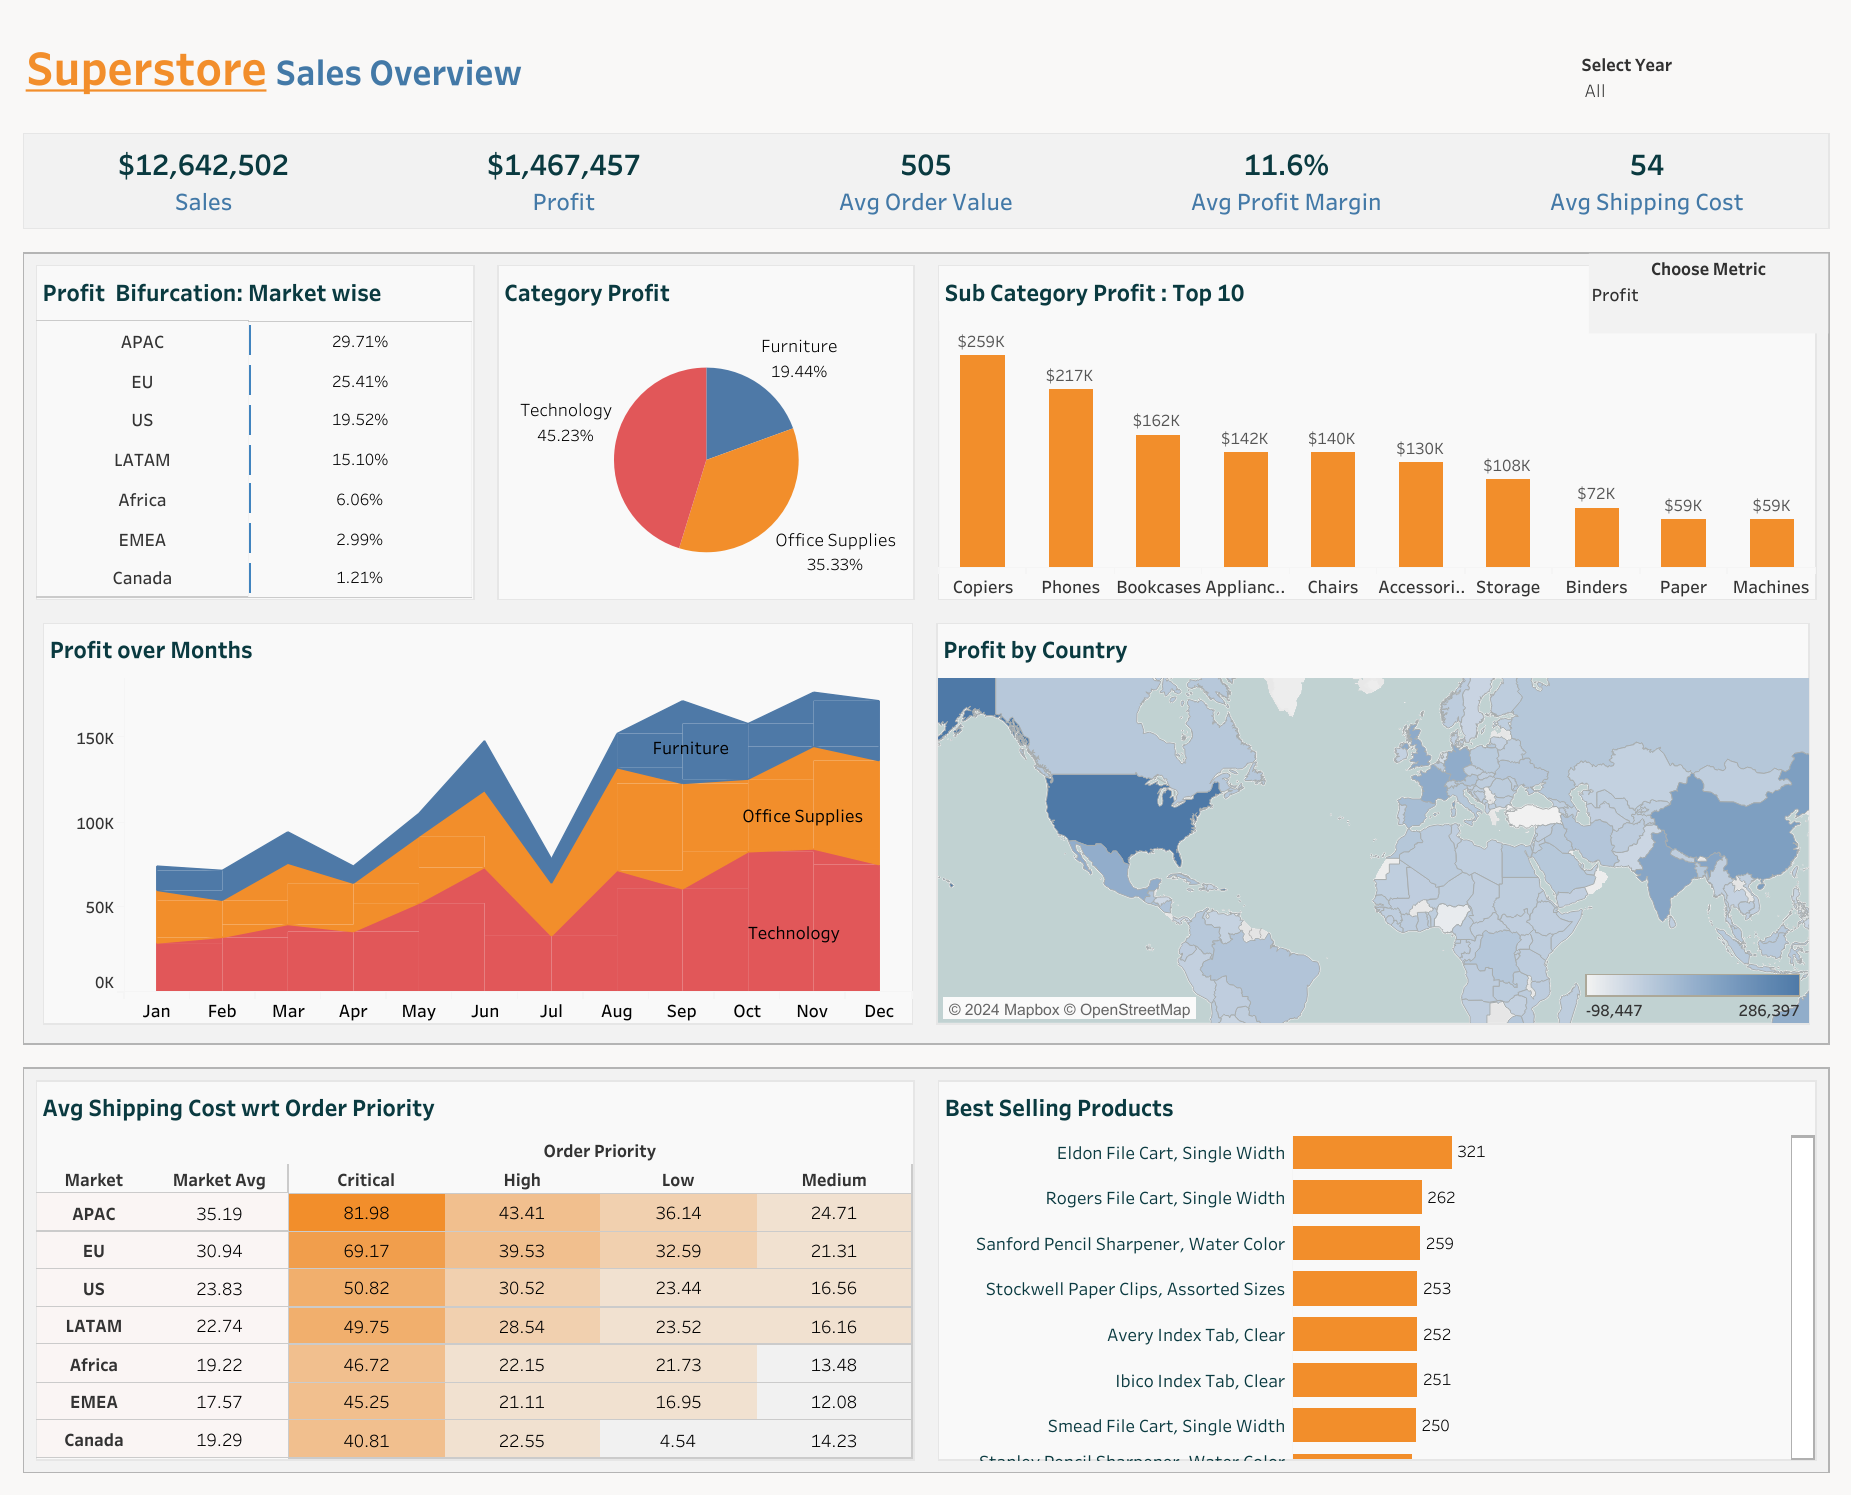

Layout of this report page (visuals, bound fields, positions):
{"tool":"tableau","page":{"name":"Dashboard","canvas":[1300,1050],"ordinal":0},"visuals":[{"type":"text","box":[8,8,1284,77]},{"type":"filter","title":"Country","param":"[federated.1n22nvh1w0f1d41ab3x840gdbtle].[yr:Order Date:ok]","box":[1110,35,173,62]},{"type":"worksheet","title":"KPI","mark":"Automatic","box":[8,85,1284,84]},{"type":"worksheet","title":"Market","mark":"GanttBar","rows":["Market"],"box":[17,178,324,251]},{"type":"worksheet","title":"Category","mark":"Pie","box":[341,178,309,251]},{"type":"worksheet","title":"Sub Category","mark":"Automatic","rows":["Calculation_658932934299906049"],"cols":["Sub-Category"],"box":[650,178,633,251]},{"type":"parameter","param":"[Parameters].[Parameter 1]","box":[1115,178,168,56]},{"type":"worksheet","title":"Monthly trend","mark":"Area","rows":["Calculation_658932934299906049"],"cols":["Order Date"],"box":[22,429,627.3,298]},{"type":"worksheet","title":"Country","mark":"Automatic","box":[649.3,429,628.7,298]},{"type":"legend","title":"Country","param":"[federated.1n22nvh1w0f1d41ab3x840gdbtle].[sum:Calculation_658932934299906049:qk]","box":[1109,680,159,57]},{"type":"worksheet","title":"Avg Shipping Cost wrt Order Priority","mark":"Square","rows":["Market","Calculation_35184387287814145"],"cols":["Order Priority"],"box":[17,750,633,283]},{"type":"worksheet","title":"Best Selling Products","mark":"Automatic","rows":["Product Name"],"cols":["Quantity"],"box":[650,750,633,283]}]}

Visuals, with their boxes in screenshot pixels (x1, y1, x2, y2), scaled from the page's 1300x1050 canvas onto the 1851x1495 screenshot:
text: pyautogui.locateOnScreen(11, 11, 1840, 121)
"Country" filter: pyautogui.locateOnScreen(1580, 50, 1827, 138)
"KPI" worksheet: pyautogui.locateOnScreen(11, 121, 1840, 241)
"Market" worksheet (GanttBar marks): pyautogui.locateOnScreen(24, 253, 486, 611)
"Category" worksheet (Pie marks): pyautogui.locateOnScreen(486, 253, 926, 611)
"Sub Category" worksheet: pyautogui.locateOnScreen(926, 253, 1827, 611)
parameter: pyautogui.locateOnScreen(1588, 253, 1827, 333)
"Monthly trend" worksheet (Area marks): pyautogui.locateOnScreen(31, 611, 925, 1035)
"Country" worksheet: pyautogui.locateOnScreen(925, 611, 1820, 1035)
"Country" legend: pyautogui.locateOnScreen(1579, 968, 1805, 1049)
"Avg Shipping Cost wrt Order Priority" worksheet (Square marks): pyautogui.locateOnScreen(24, 1068, 926, 1471)
"Best Selling Products" worksheet: pyautogui.locateOnScreen(926, 1068, 1827, 1471)
